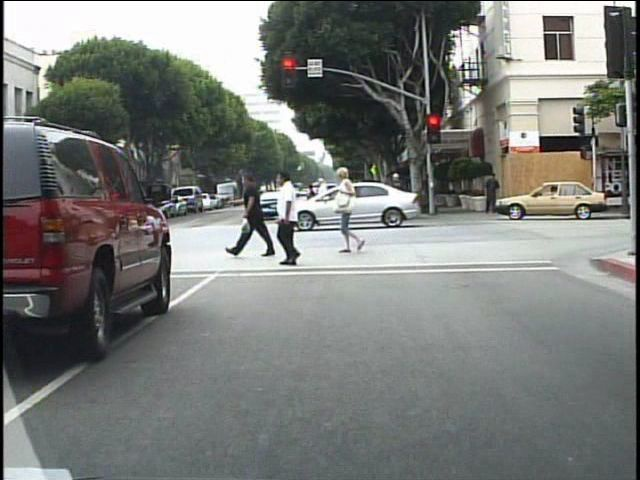person: (269, 172, 318, 270), (237, 169, 280, 263), (335, 164, 369, 256), (385, 165, 407, 226), (315, 174, 336, 223), (303, 180, 323, 225), (357, 177, 376, 223), (482, 170, 500, 217), (118, 181, 136, 228), (151, 180, 167, 232), (4, 193, 22, 238), (6, 198, 22, 236)
